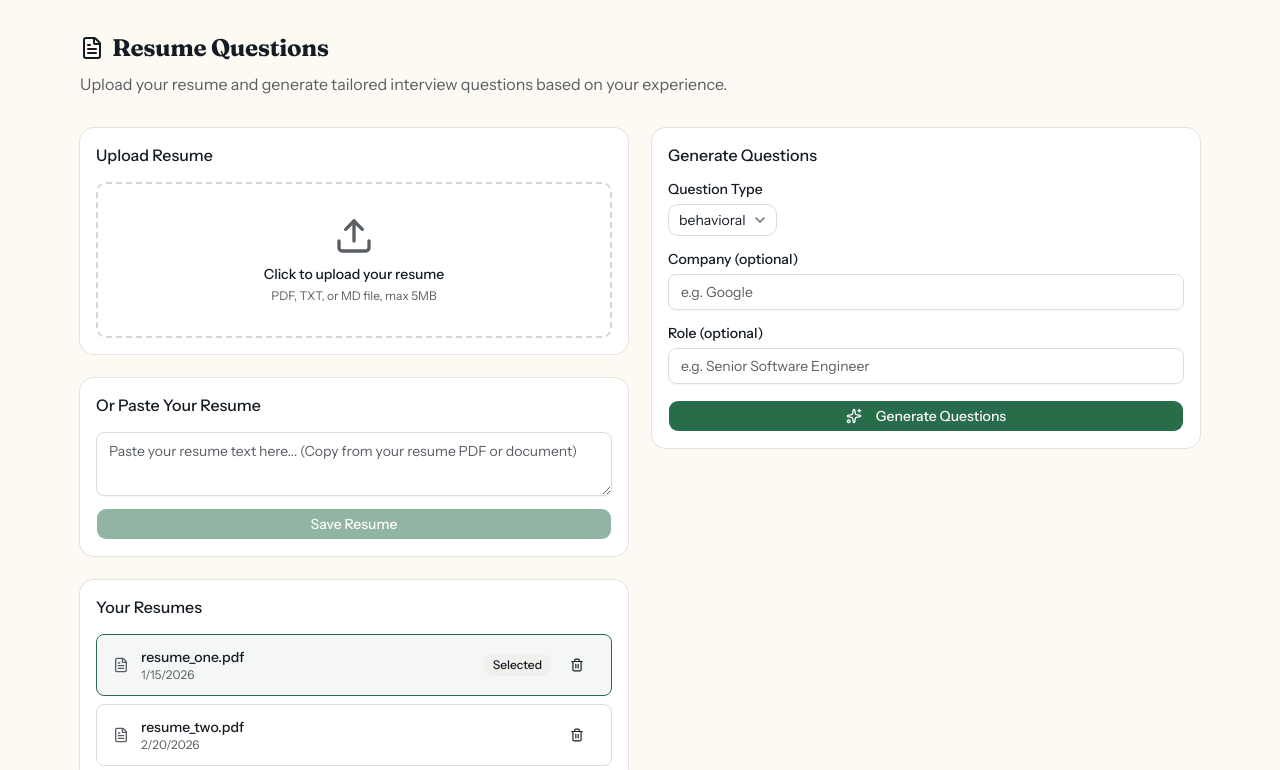
ResumePage — delete feature (117-F through 117-J) › sends DELETE request and removes the card when Confirm Delete is clicked
// Click the trash icon to open confirm strip
Click the button named "delete resume_one.pdf" at [577, 665], box [559,651,595,679]
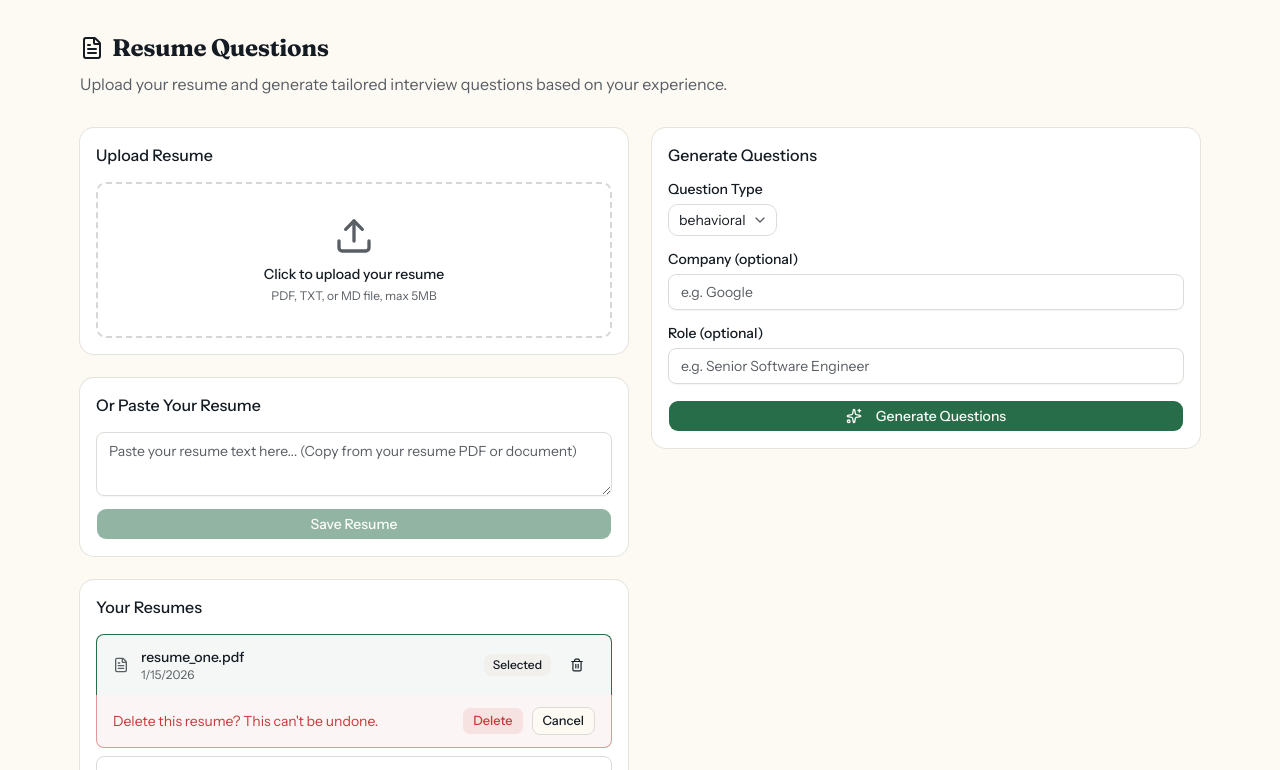
// Click the destructive "Delete" button inside the confirm strip
Click the button "Delete" at [493, 721], box [462,707,524,735]
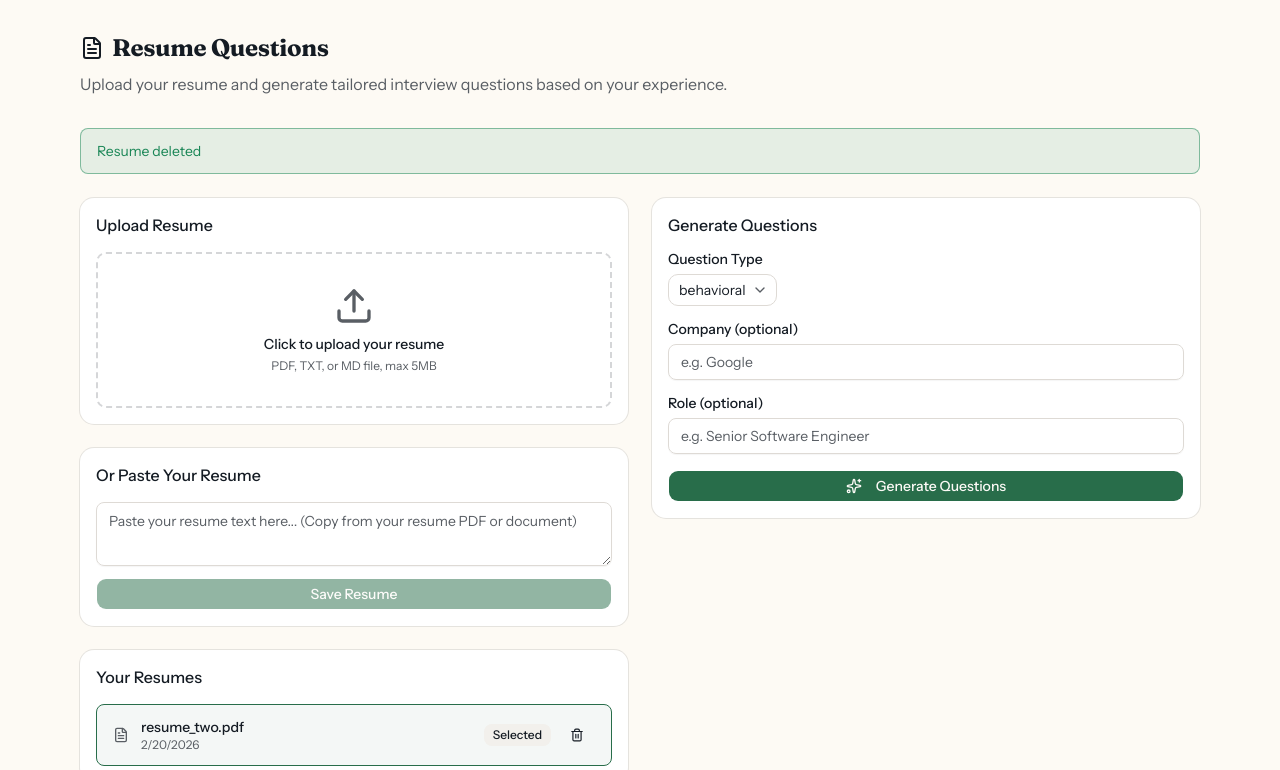
Now the button "resume_one.pdf" is gone
